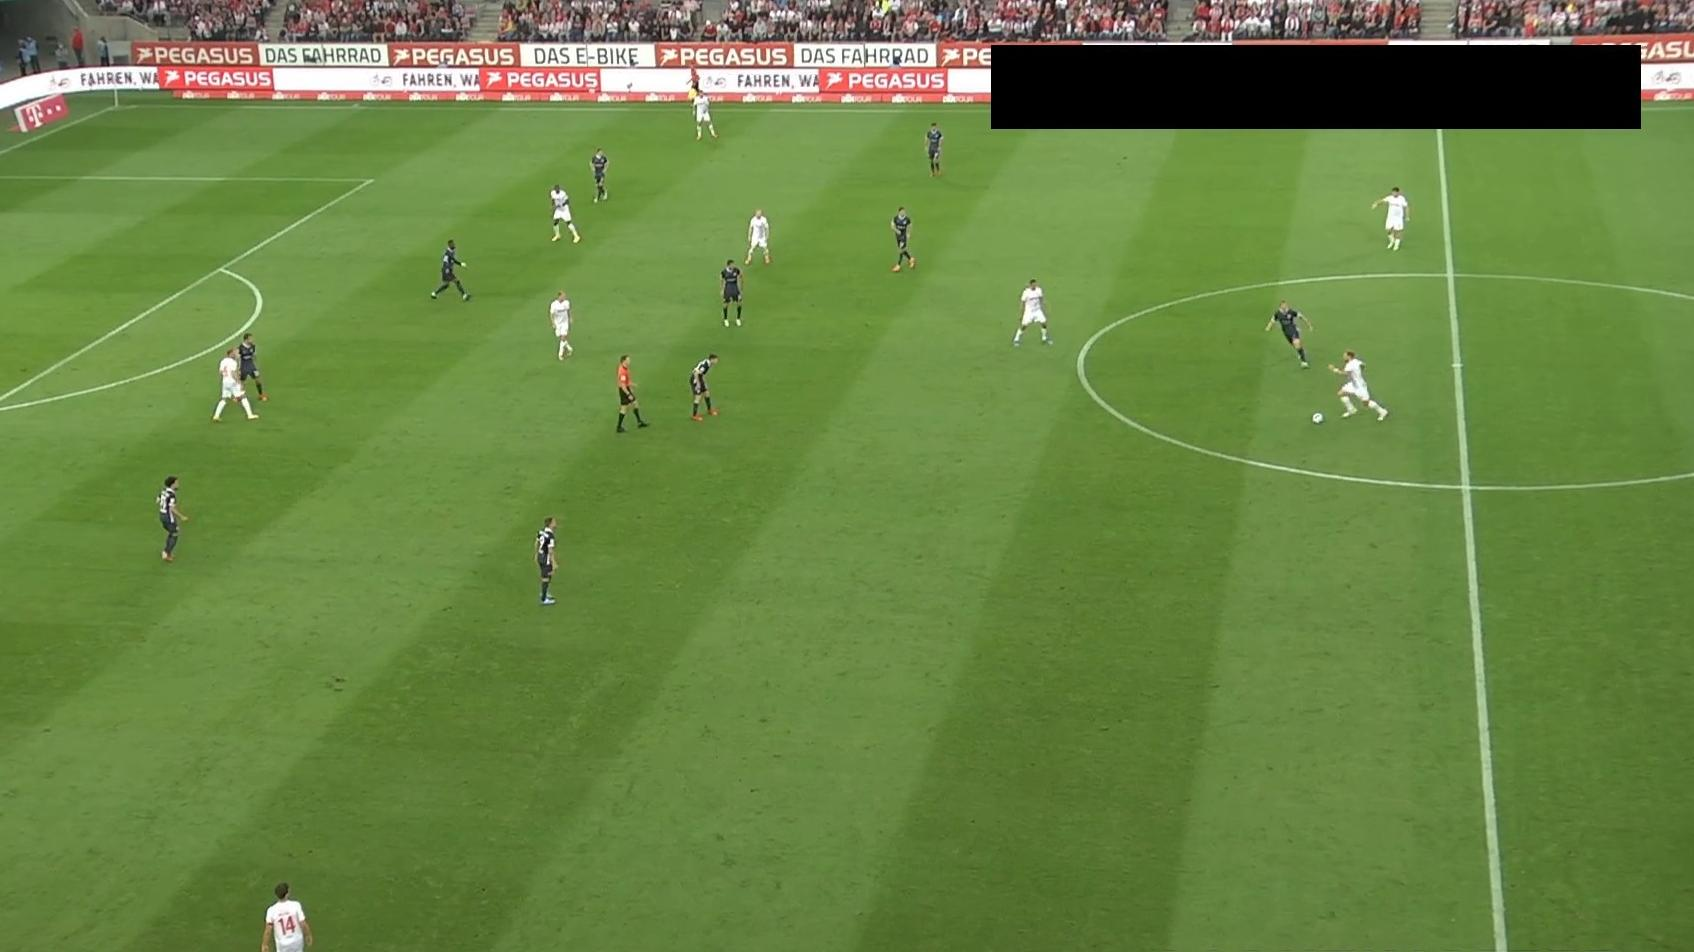ball: (1311, 412, 1325, 426)
